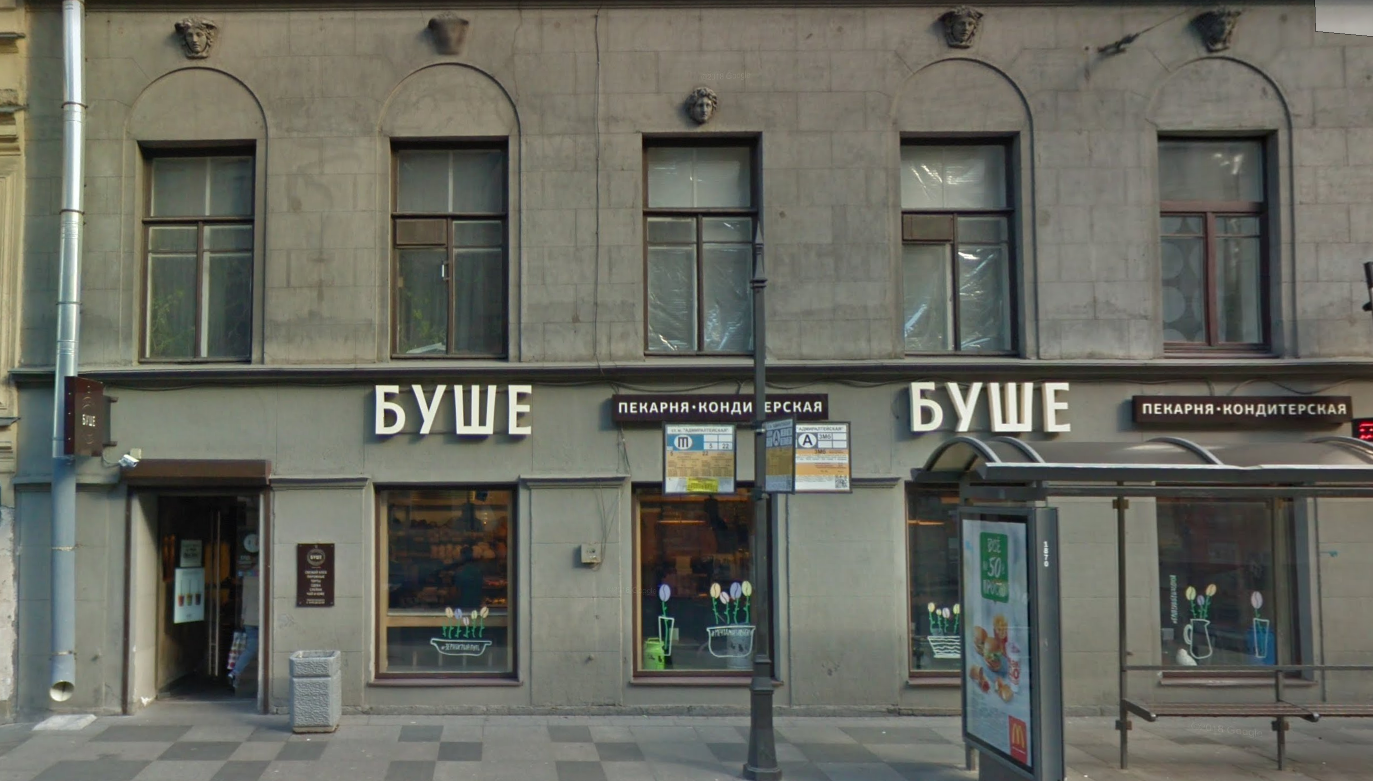cantilever: (58, 367, 127, 460)
door: (132, 479, 271, 717)
signboard: (356, 366, 551, 441), (901, 377, 1078, 442), (608, 384, 834, 428), (1128, 390, 1354, 426)
window: (370, 480, 515, 680), (626, 481, 766, 688), (384, 138, 507, 359), (1162, 493, 1306, 680), (643, 135, 763, 357), (896, 141, 1020, 353), (140, 138, 256, 363), (1159, 128, 1273, 356), (908, 482, 964, 671)
